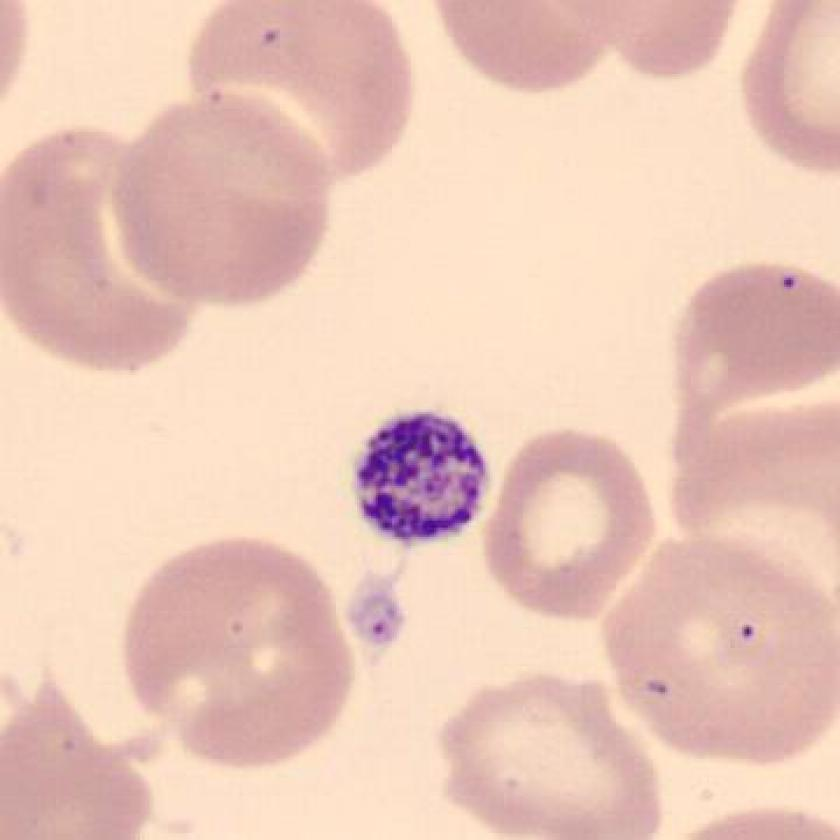platelets: (344, 404, 498, 556)
